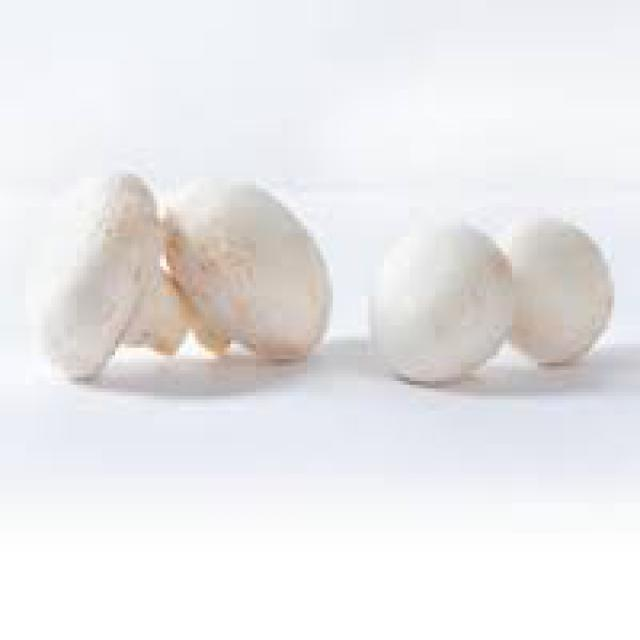Agaricus bisporus: (23, 164, 189, 378), (164, 184, 333, 374), (370, 224, 512, 395), (493, 210, 618, 371)
